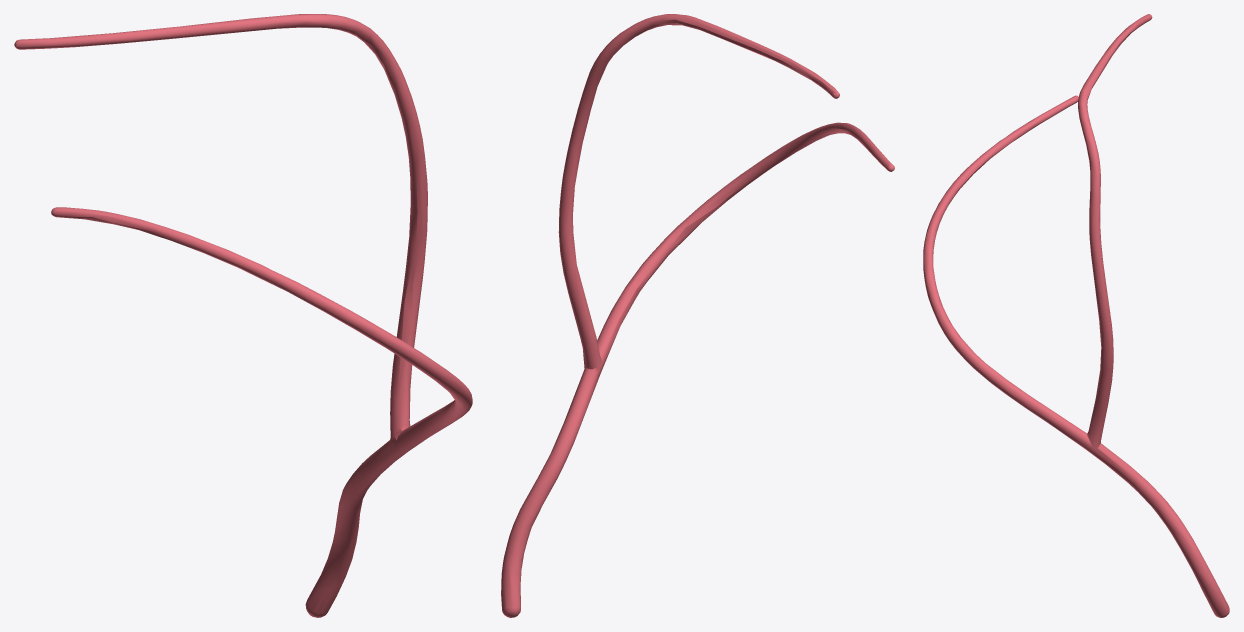
Rendered from fma50349_fj5035.glb.
The picture shows the model from 3 angles, left to right: view 1: azimuth 30°, elevation 25°; view 2: azimuth 150°, elevation 25°; view 3: azimuth 270°, elevation 25°; orthographic projection. The views are drawn at different scales.
Visible parts, largest first — view 1: FMA50349_FJ5035; view 2: FMA50349_FJ5035; view 3: FMA50349_FJ5035.
Part boxes in pixels (box(x1,y1,x2,y2)): FMA50349_FJ5035: box(14, 14, 472, 617); FMA50349_FJ5035: box(501, 14, 894, 617); FMA50349_FJ5035: box(923, 14, 1229, 617).
Size of the model in its own units: 0.0221 by 0.0377 by 0.0215.
